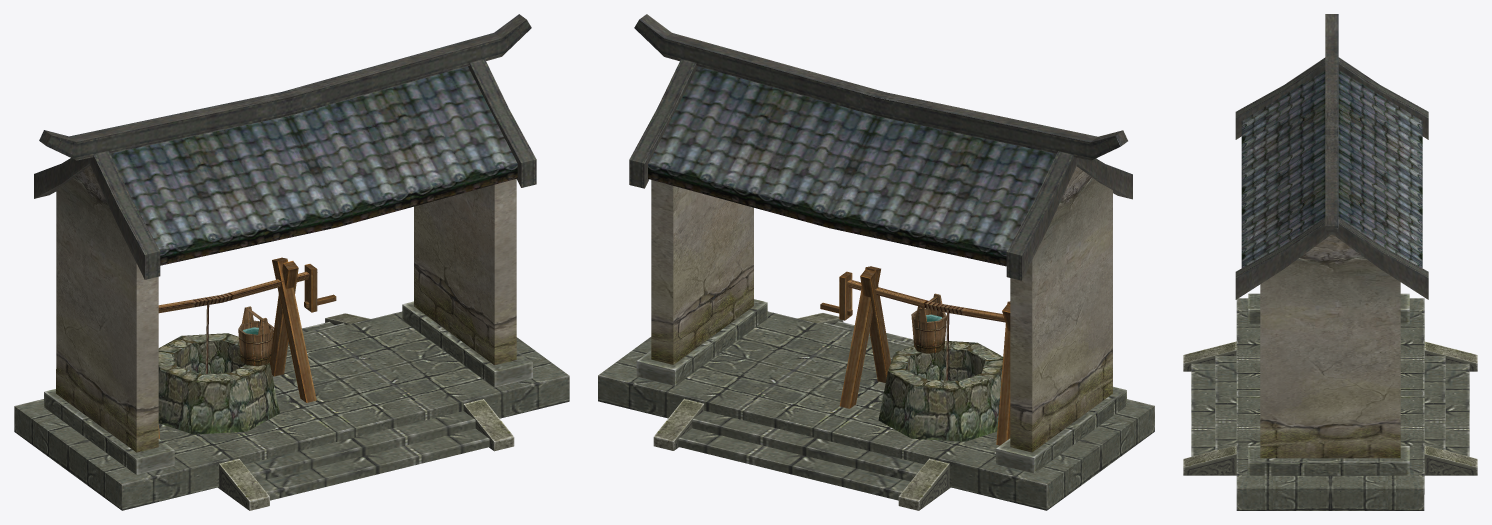
Rendered from shuijing_20.fbx.
3 views of the same model, side by side, from view 1: azimuth 30°, elevation 25°; view 2: azimuth 150°, elevation 25°; view 3: azimuth 270°, elevation 25° (orthographic). The views are drawn at different scales.
Parts seen in each view (by area): view 1: shuijing_20; view 2: shuijing_20; view 3: shuijing_20.
Part boxes in pixels (x1,y1,x2,y2): shuijing_20: (14,14,569,510); shuijing_20: (598,14,1154,510); shuijing_20: (1183,14,1477,510).
Size of what is drawn, in the model's own units: 797 by 540 by 481.
